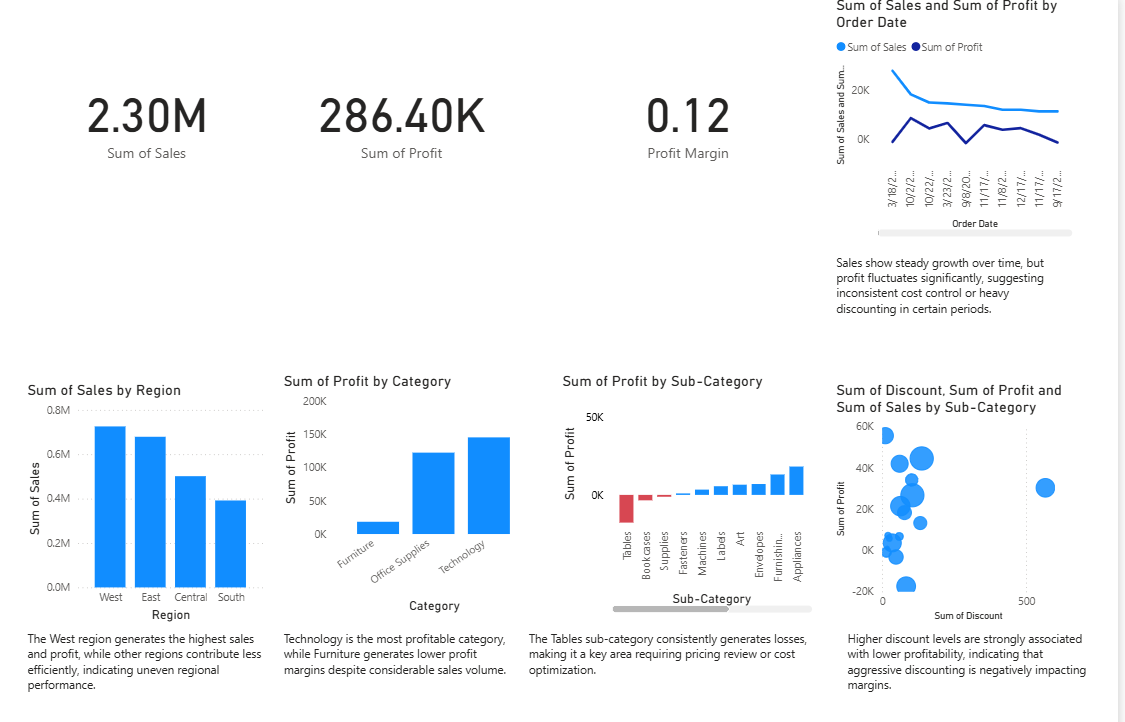

What the dashboard file says about the page in this screenshot:
{"tool":"powerbi","page":{"name":"Page 1","canvas":[1280,1000],"ordinal":0},"visuals":[{"type":"card","fields":{"Values":["Sum(Sample - Superstore.Sales)"]},"box":[29.3,0,280,280],"z":0},{"type":"card","fields":{"Values":["Sum(Sample - Superstore.Profit)"]},"box":[321.6,0,280,280],"z":1000},{"type":"card","fields":{"Values":["Sample - Superstore.Profit Margin"]},"box":[640.8,0,294.7,280],"z":2000},{"type":"lineChart","fields":{"Category":["Sample - Superstore.Order Date"],"Y":["Sum(Sample - Superstore.Sales)","Sum(Sample - Superstore.Profit)"]},"box":[952.6,0,280,280],"z":3000},{"type":"clusteredColumnChart","fields":{"Category":["Sample - Superstore.Region"],"Y":["Sum(Sample - Superstore.Sales)"]},"box":[29,440.4,279.9,279.9],"z":4000},{"type":"columnChart","fields":{"Category":["Sample - Superstore.Category"],"Y":["Sum(Sample - Superstore.Profit)"]},"box":[322.1,430.7,296.8,279.9],"z":5000},{"type":"clusteredColumnChart","fields":{"Category":["Sample - Superstore.Sub-Category"],"Y":["Sum(Sample - Superstore.Profit)"]},"box":[640.6,430.7,295.6,279.9],"z":6000},{"type":"scatterChart","fields":{"X":["Sum(Sample - Superstore.Discount)"],"Y":["Sum(Sample - Superstore.Profit)"],"Size":["Sum(Sample - Superstore.Sales)"],"Category":["Sample - Superstore.Sub-Category"]},"box":[953.1,440.4,270.2,279.9],"z":7000},{"type":"textbox","box":[28.3,720,281.7,95],"z":8000},{"type":"textbox","box":[953.1,289.5,279.9,97.7],"z":9000},{"type":"textbox","box":[601.7,720,351.7,95],"z":10000},{"type":"textbox","box":[965,720,293.3,95],"z":11000},{"type":"textbox","box":[321.7,720,265,95],"z":12000}]}

Visuals, with their boxes on the page's 1280x1000 design canvas (x1, y1, x2, y2). These are canvas units, not pixel positions in the 1125x722 screenshot, which may show the page scaled, cropped or inside an application window:
card - Sum(Sample - Superstore.Sales): pyautogui.locateOnScreen(29, 0, 309, 280)
card - Sum(Sample - Superstore.Profit): pyautogui.locateOnScreen(322, 0, 602, 280)
card - Sample - Superstore.Profit Margin: pyautogui.locateOnScreen(641, 0, 936, 280)
lineChart - Sample - Superstore.Order Date x Sum(Sample - Superstore.Sales): pyautogui.locateOnScreen(953, 0, 1233, 280)
clusteredColumnChart - Sample - Superstore.Region x Sum(Sample - Superstore.Sales): pyautogui.locateOnScreen(29, 440, 309, 720)
columnChart - Sample - Superstore.Category x Sum(Sample - Superstore.Profit): pyautogui.locateOnScreen(322, 431, 619, 711)
clusteredColumnChart - Sample - Superstore.Sub-Category x Sum(Sample - Superstore.Profit): pyautogui.locateOnScreen(641, 431, 936, 711)
scatterChart - Sum(Sample - Superstore.Discount) x Sum(Sample - Superstore.Profit): pyautogui.locateOnScreen(953, 440, 1223, 720)
textbox: pyautogui.locateOnScreen(28, 720, 310, 815)
textbox: pyautogui.locateOnScreen(953, 290, 1233, 387)
textbox: pyautogui.locateOnScreen(602, 720, 953, 815)
textbox: pyautogui.locateOnScreen(965, 720, 1258, 815)
textbox: pyautogui.locateOnScreen(322, 720, 587, 815)
